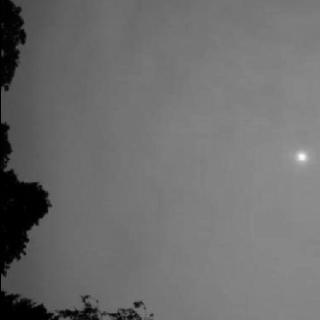Altostratus: (26, 0, 320, 298)
